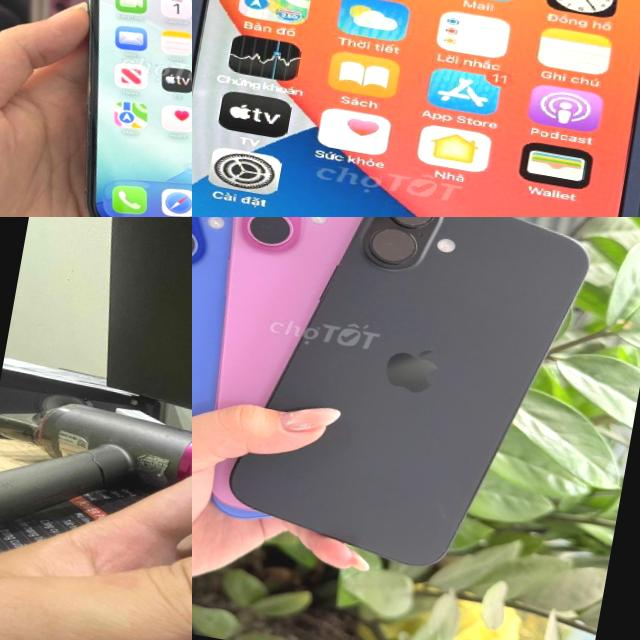gen_12_13: (28, 0, 192, 217)
gen_16: (218, 217, 603, 591)
gen_7_8: (192, 0, 640, 217)
